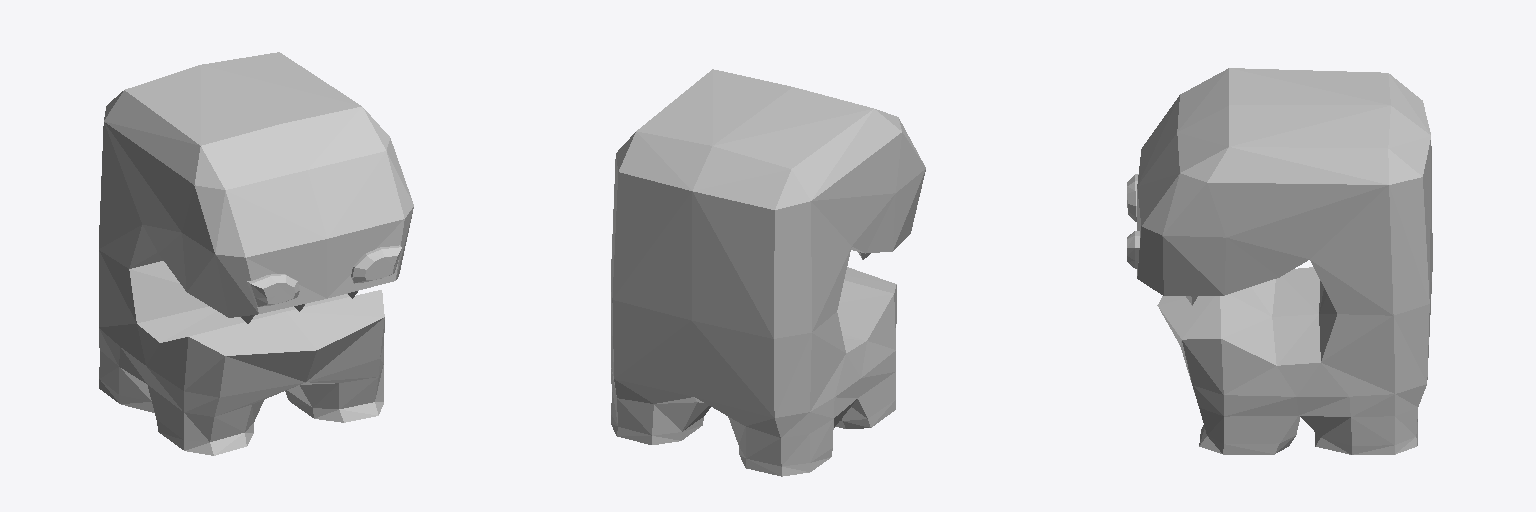
Rendered from mob3.obj.
3 views of the same model, side by side, from view 1: azimuth 30°, elevation 25°; view 2: azimuth 150°, elevation 25°; view 3: azimuth 270°, elevation 25° (orthographic).
Visible parts, largest first — view 1: Mesh.003_body:polySurface8, Mesh.001_eyes1:polySurface8; view 2: Mesh.003_body:polySurface8; view 3: Mesh.003_body:polySurface8, Mesh.001_eyes1:polySurface8.
Part boxes in pixels (x1,y1,x2,y2): Mesh.003_body:polySurface8: (99,52,413,455); Mesh.001_eyes1:polySurface8: (247,245,401,306); Mesh.003_body:polySurface8: (611,69,925,476); Mesh.003_body:polySurface8: (1137,68,1432,454); Mesh.001_eyes1:polySurface8: (1127,174,1139,268).
Size of the model in its own units: 1.45 by 2.06 by 1.9.